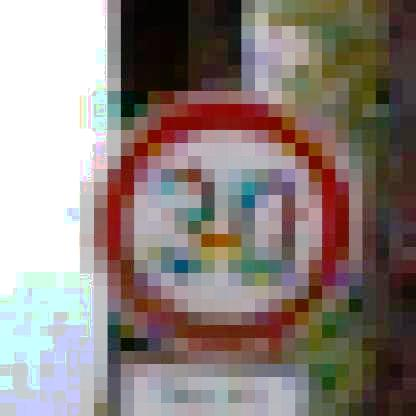Speed Limit -30-: (75, 88, 362, 364)
